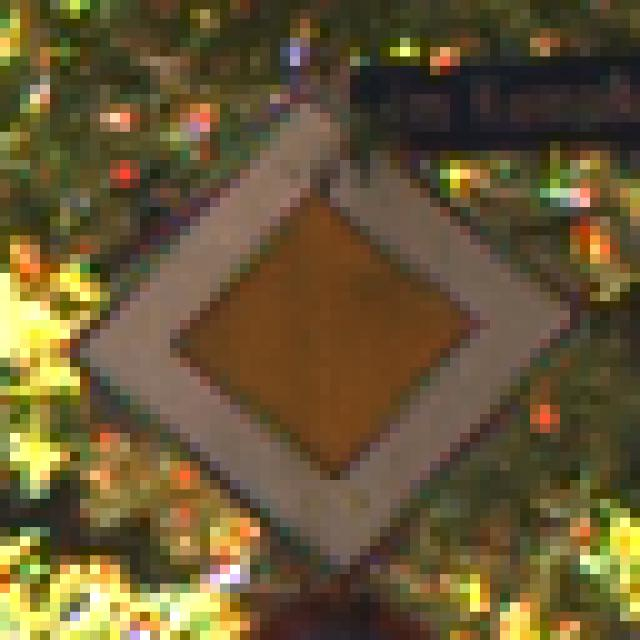Main Road: (51, 58, 591, 585)
